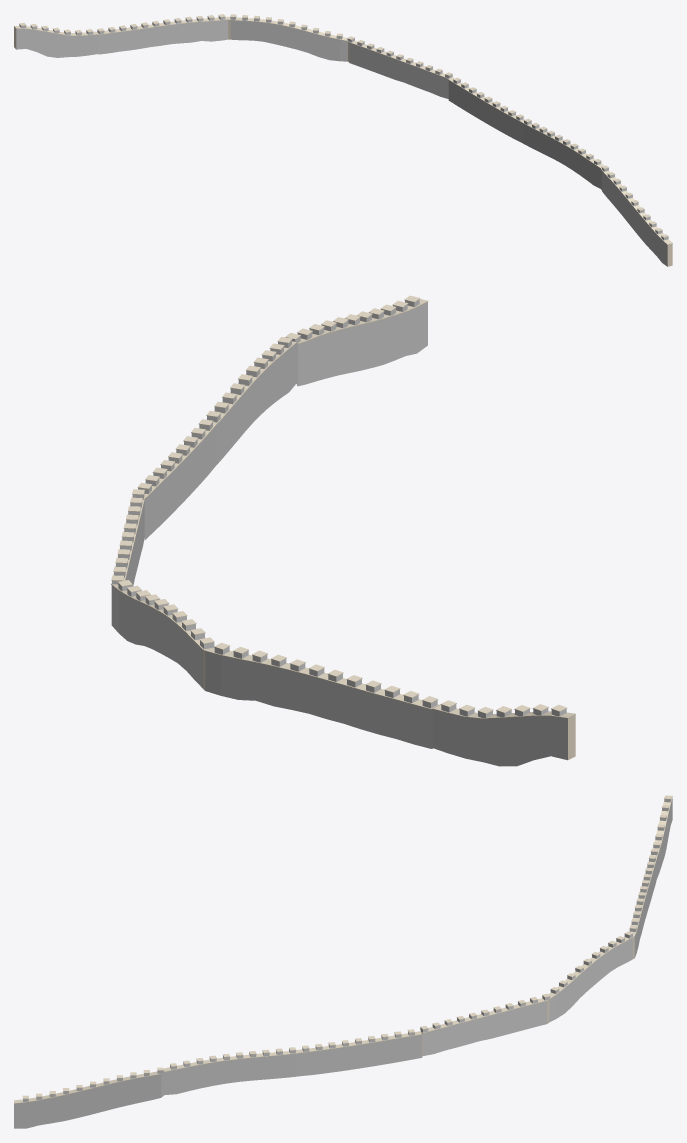
Rendered from SM_BM_BC_Mura_2.glb.
3 views of the same model, one above another, from view 1: azimuth 30°, elevation 25°; view 2: azimuth 150°, elevation 25°; view 3: azimuth 270°, elevation 25° (orthographic). The views are drawn at different scales.
Parts seen in each view (by area): view 1: SM_BM_BC_Mura_2; view 2: SM_BM_BC_Mura_2; view 3: SM_BM_BC_Mura_2.
Boxes of the visible parts, x1,y1,x2,y2 form: SM_BM_BC_Mura_2: (14,14,672,266); SM_BM_BC_Mura_2: (111,295,575,766); SM_BM_BC_Mura_2: (14,795,672,1128).
Size of the model in its own units: 114 by 34.77 by 157.
